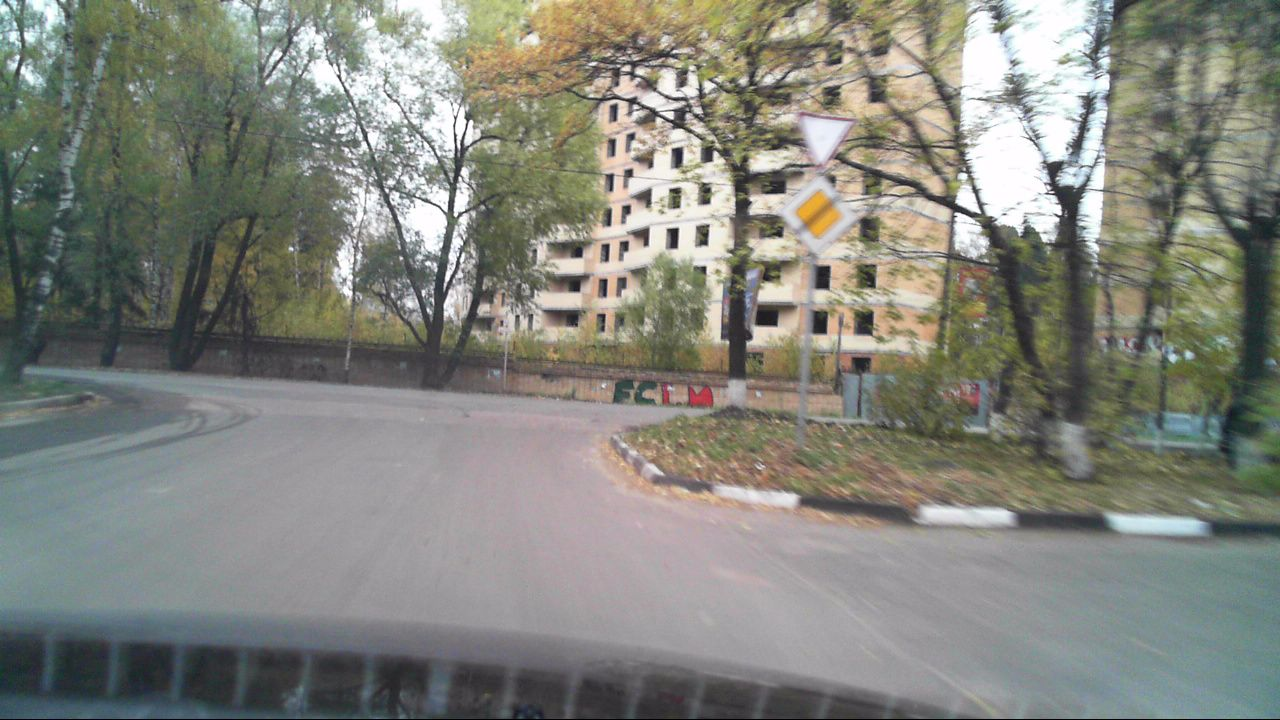main road: (782, 177, 858, 257)
